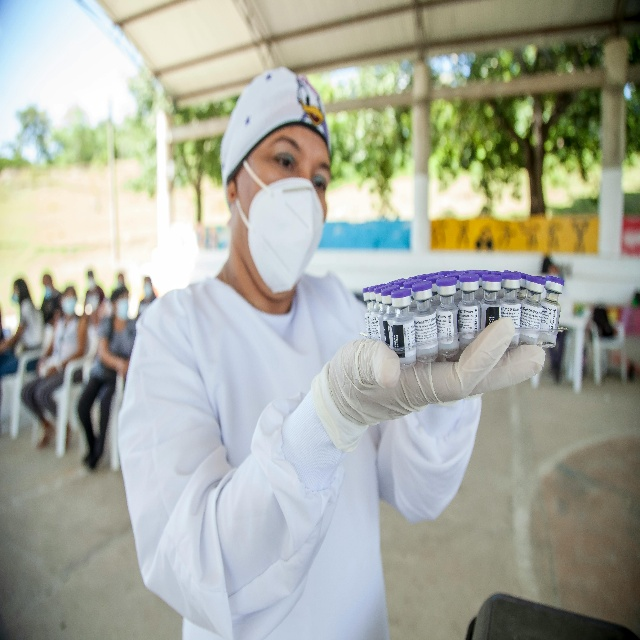Guantes: (309, 315, 546, 454)
Mascara: (234, 159, 328, 294), (61, 294, 77, 316), (115, 297, 129, 321), (12, 291, 19, 301)
